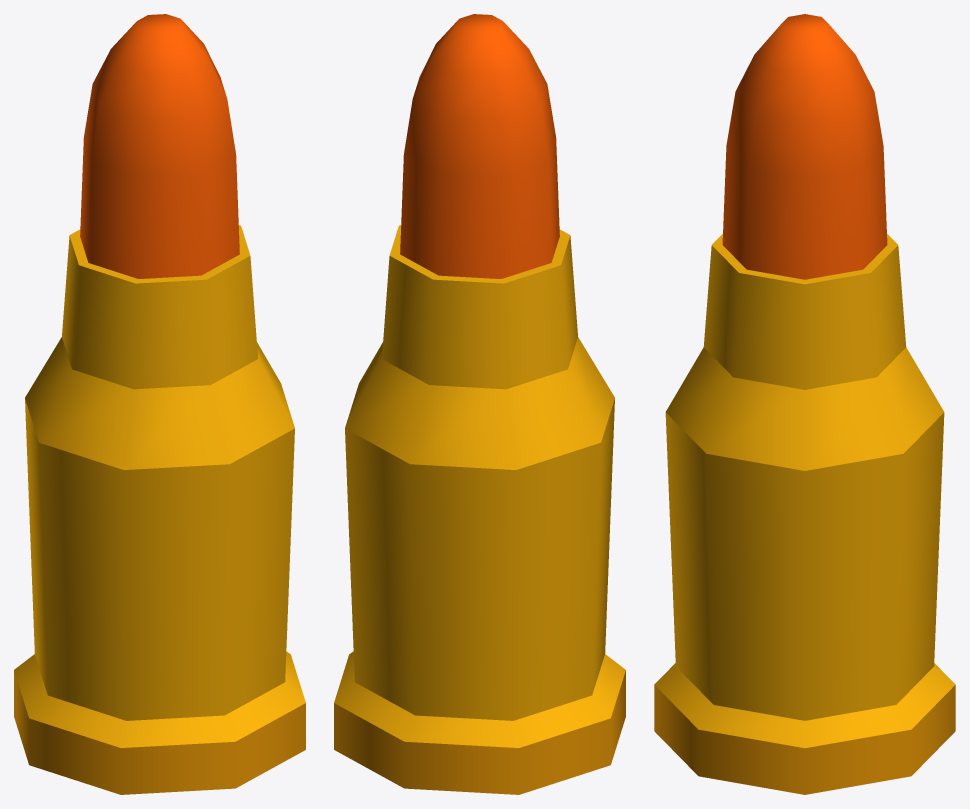
The model's file is Bullet_wCasing.fbx.
3 views of the same model, side by side, from view 1: azimuth 30°, elevation 25°; view 2: azimuth 150°, elevation 25°; view 3: azimuth 270°, elevation 25° (orthographic).
Parts seen in each view (by area): view 1: Bullet_wCasing; view 2: Bullet_wCasing; view 3: Bullet_wCasing.
Boxes of the visible parts, x1=… form: Bullet_wCasing: x1=14, y1=14, x2=305, y2=794; Bullet_wCasing: x1=334, y1=14, x2=625, y2=794; Bullet_wCasing: x1=654, y1=14, x2=955, y2=794.
Size of the model in its own units: 9.71 by 25.14 by 9.71.
